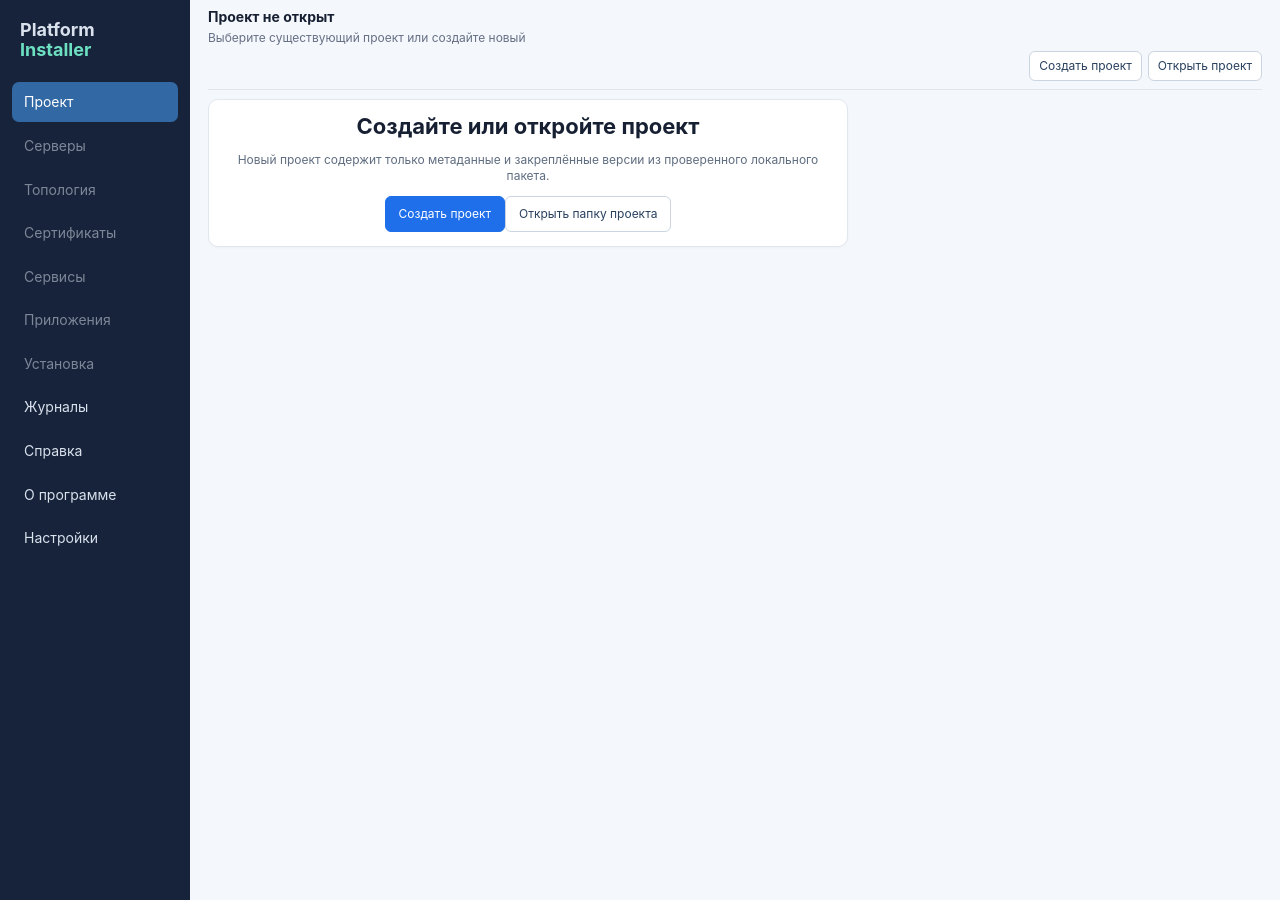
Test: restores a CURRENT run and its plan after a React reload without another Start
The image size is (1280, 900).
Click the button "Открыть папку проекта" at (588, 214), box [505, 196, 672, 232]
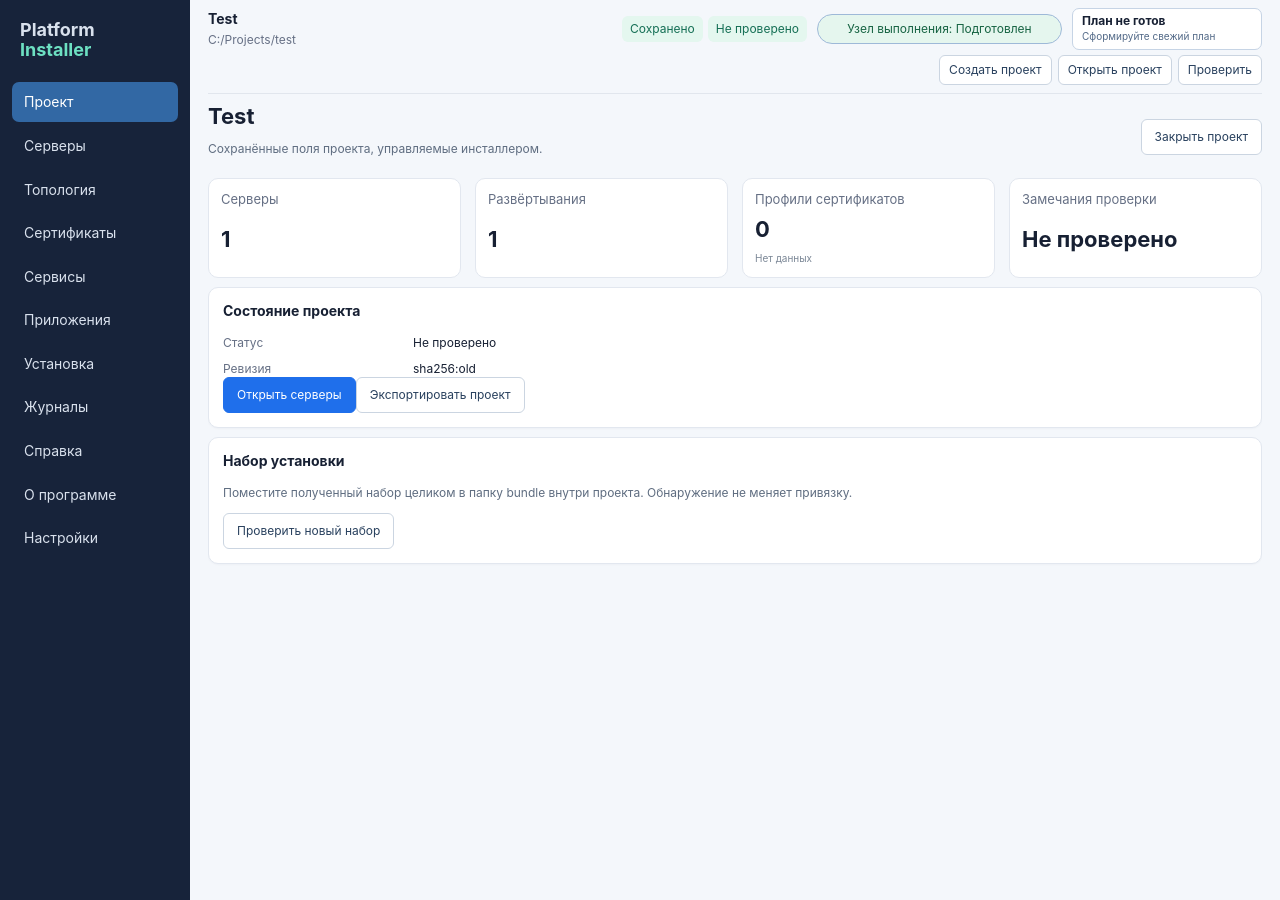
Click the button "Серверы" at (95, 146), box [12, 126, 178, 166]
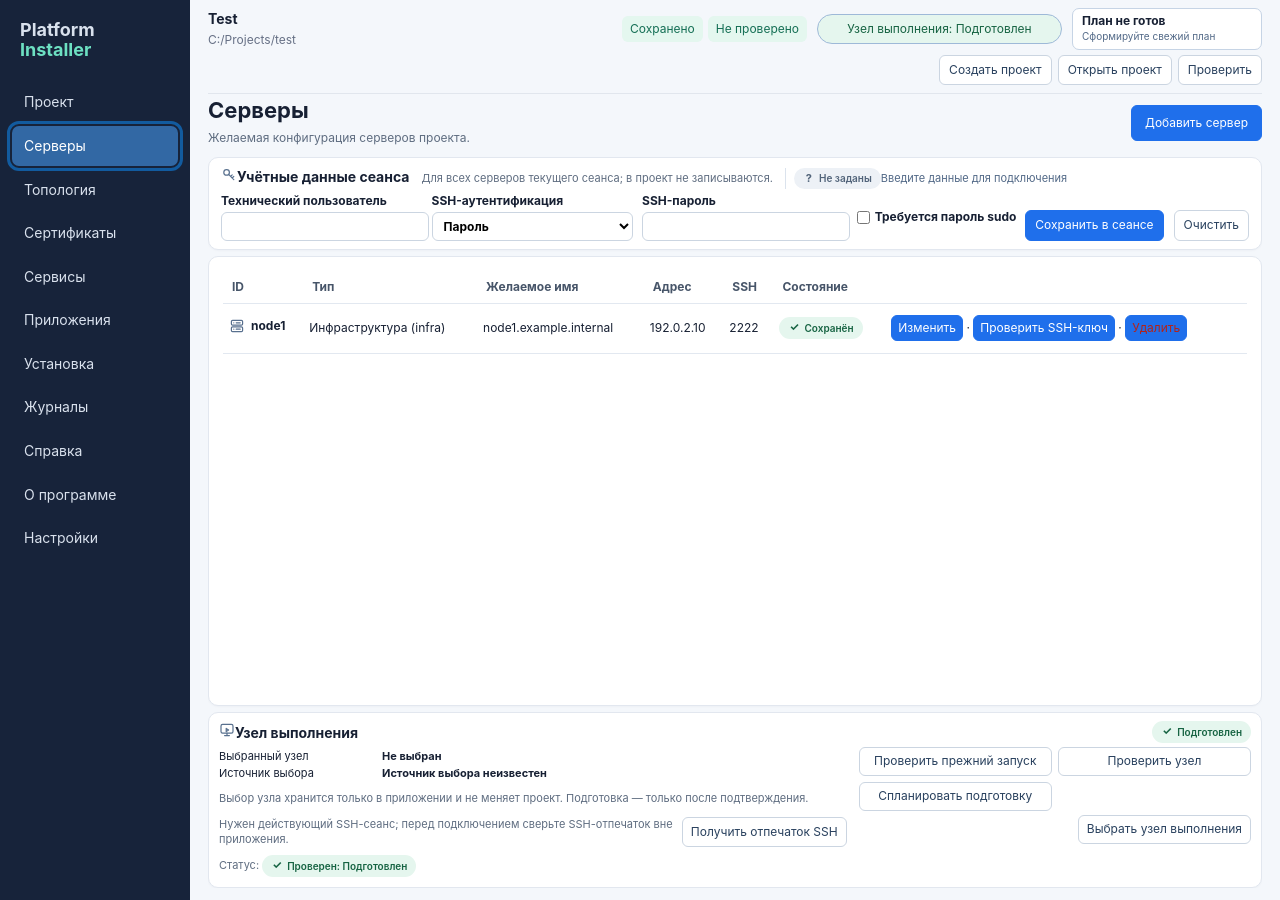
Click the button "Проверить прежний запуск" at (955, 762), box [859, 747, 1052, 776]
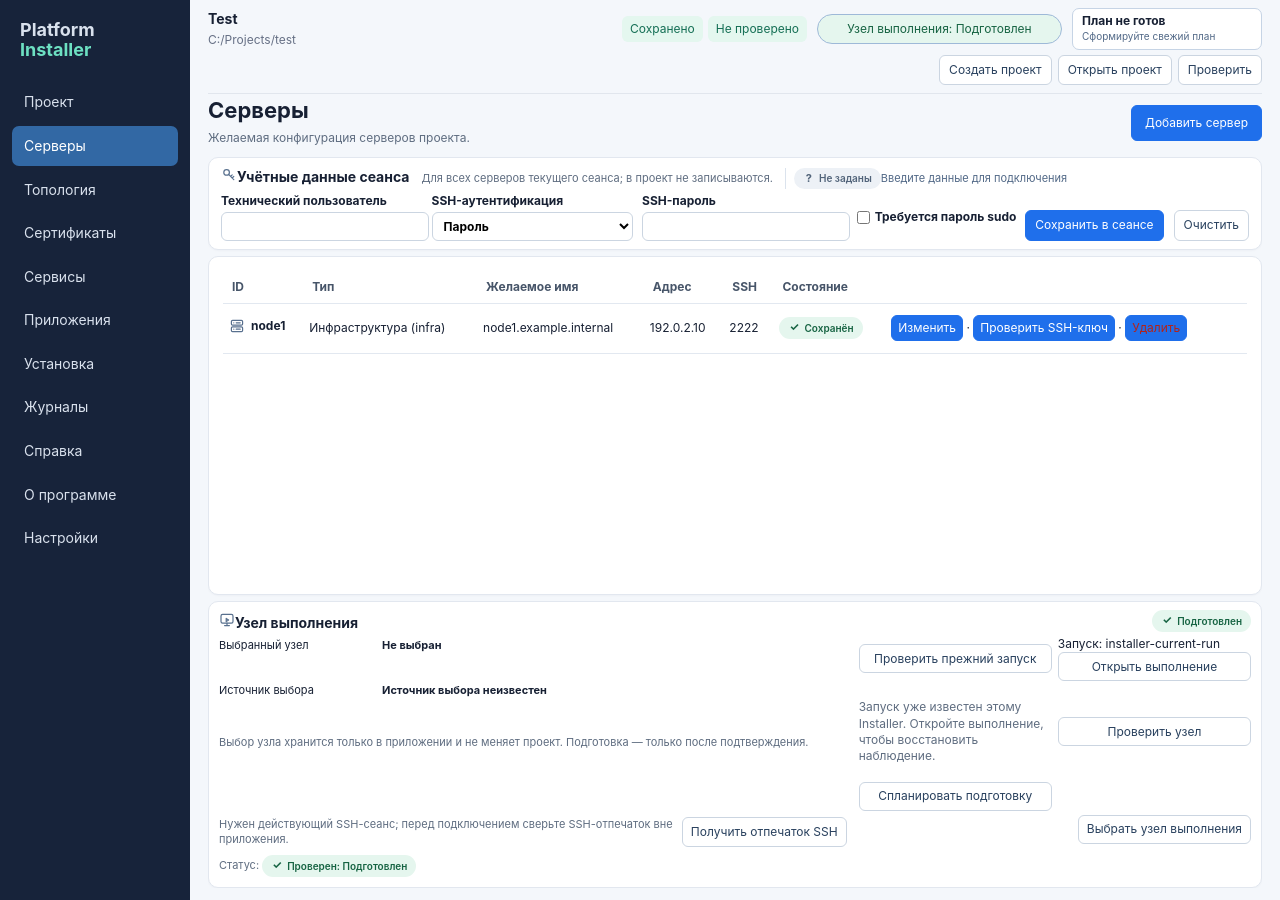
Result: the text "Запуск уже известен этому Installer" is shown at [859, 699, 1044, 763]
Click the button "Открыть выполнение" at (1154, 667), box [1058, 652, 1251, 681]
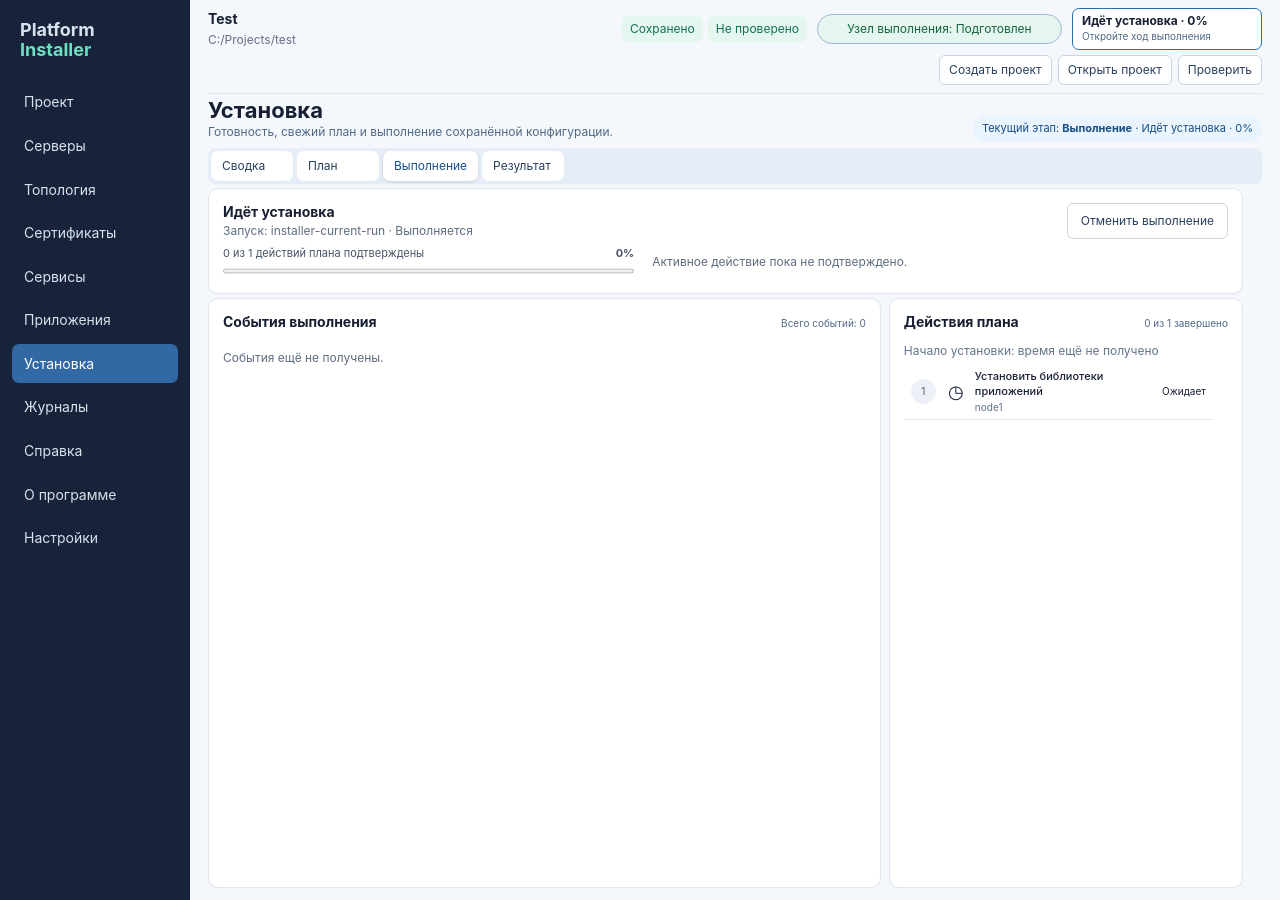
Result: the text "Установить библиотеки приложений" is shown at [975, 369, 1103, 398]
